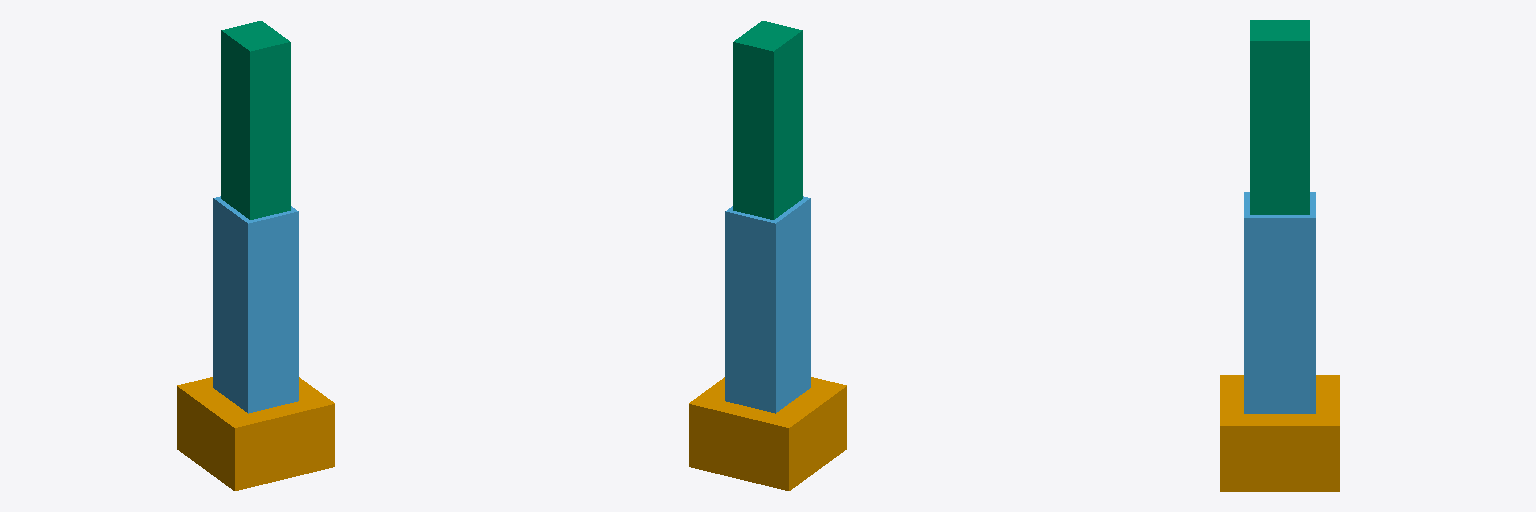
The robot description file, URDF, robot "robot":
<?xml version='1.0' encoding='utf-8'?>
<robot name="robot">
  <link name="base_link">
    <inertial>
      <origin xyz="0 0 0.029999999999999999" rpy="0 0 0" />
      <mass value="0.90000000000000002" />
      <inertia ixx="0.0010200000000000001" ixy="0" ixz="0" iyy="0.0010200000000000001" iyz="0" izz="0.0015000000000000005" />
    </inertial>
    <visual>
      <origin xyz="0 0 0.029999999999999999" rpy="0 0 0" />
      <geometry>
        <box size="0.10000000000000001 0.10000000000000001 0.059999999999999998" />
      </geometry>
    </visual>
    <collision>
      <origin xyz="0 0 0.029999999999999999" rpy="0 0 0" />
      <geometry>
        <box size="0.10000000000000001 0.10000000000000001 0.059999999999999998" />
      </geometry>
    </collision>
  </link>
  <link name="shoulder_link">
    <inertial>
      <origin xyz="0 0 0.089999999999999997" rpy="0 0 0" />
      <mass value="0.45000000000000001" />
      <inertia ixx="0.0013499999999999999" ixy="0" ixz="0" iyy="0.00130875" iyz="0" izz="0.00022875" />
    </inertial>
    <visual>
      <origin xyz="0 0 0.089999999999999997" rpy="0 0 0" />
      <geometry>
        <box size="0.050000000000000003 0.059999999999999998 0.17999999999999999" />
      </geometry>
    </visual>
    <collision>
      <origin xyz="0 0 0.089999999999999997" rpy="0 0 0" />
      <geometry>
        <box size="0.050000000000000003 0.059999999999999998 0.17999999999999999" />
      </geometry>
    </collision>
  </link>
  <link name="forearm_link">
    <inertial>
      <origin xyz="0 0 0.080000000000000002" rpy="0 0 0" />
      <mass value="0.29999999999999999" />
      <inertia ixx="0.0007025" ixy="0" ixz="0" iyy="0.00068000000000000005" iyz="0" izz="0.0001025" />
    </inertial>
    <visual>
      <origin xyz="0 0 0.080000000000000002" rpy="0 0 0" />
      <geometry>
        <box size="0.040000000000000001 0.050000000000000003 0.16" />
      </geometry>
    </visual>
    <collision>
      <origin xyz="0 0 0.080000000000000002" rpy="0 0 0" />
      <geometry>
        <box size="0.040000000000000001 0.050000000000000003 0.16" />
      </geometry>
    </collision>
  </link>
  <joint name="shoulder_joint" type="revolute">
    <parent link="base_link" />
    <child link="shoulder_link" />
    <origin xyz="0 0 0.059999999999999998" rpy="0 0 0" />
    <axis xyz="0 1 0" />
    <limit effort="10" lower="-1.3999999999999999" upper="1.3999999999999999" velocity="3" />
    <dynamics damping="0.050000000000000003" friction="0" />
  </joint>
  <joint name="elbow_joint" type="revolute">
    <parent link="shoulder_link" />
    <child link="forearm_link" />
    <origin xyz="0 0 0.17999999999999999" rpy="0 0 0" />
    <axis xyz="0 1 0" />
    <limit effort="6" lower="-2.2000000000000002" upper="2.2000000000000002" velocity="3" />
    <dynamics damping="0.029999999999999999" friction="0" />
  </joint>
  <link name="tool" />
  <joint name="tool_fixed" type="fixed">
    <parent link="forearm_link" />
    <child link="tool" />
    <origin xyz="0 0 0.16" rpy="0 0 0" />
  </joint>
</robot>

--- Render facts (derived) ---
Views: 3 orthographic renders of the robot side by side, from view 1: azimuth 30°, elevation 25°; view 2: azimuth 150°, elevation 25°; view 3: azimuth 270°, elevation 25°.
Robot: robot — 4 links, 3 joints (2 revolute, 1 fixed); root link base_link; default pose: every joint at zero.
Visible links, largest first — view 1: shoulder_link, forearm_link, base_link; view 2: shoulder_link, forearm_link, base_link; view 3: shoulder_link, forearm_link, base_link.
Boxes of the visible links, x1,y1,x2,y2 form: shoulder_link: (213,196,298,413); forearm_link: (221,21,290,219); base_link: (177,377,334,490); shoulder_link: (725,196,810,413); forearm_link: (733,21,802,219); base_link: (689,377,846,490); shoulder_link: (1244,192,1315,413); forearm_link: (1250,20,1309,214); base_link: (1220,375,1339,491).
Bounding box of the posed robot: 0.1 × 0.1 × 0.4 m (x, y, z).
Geometry: primitives only (box / cylinder / sphere), no mesh files.
